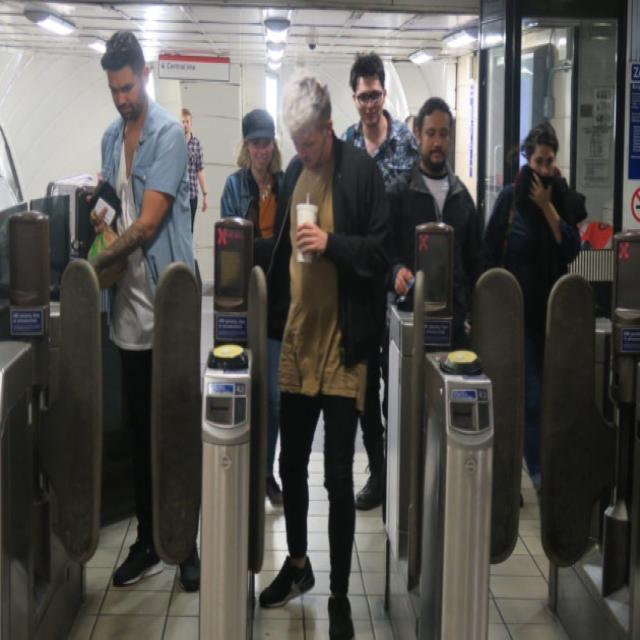body: (252, 71, 396, 638), (88, 27, 202, 593), (480, 111, 591, 512), (334, 50, 421, 508), (218, 108, 288, 506), (381, 93, 481, 342), (178, 106, 210, 235), (403, 113, 418, 142)
